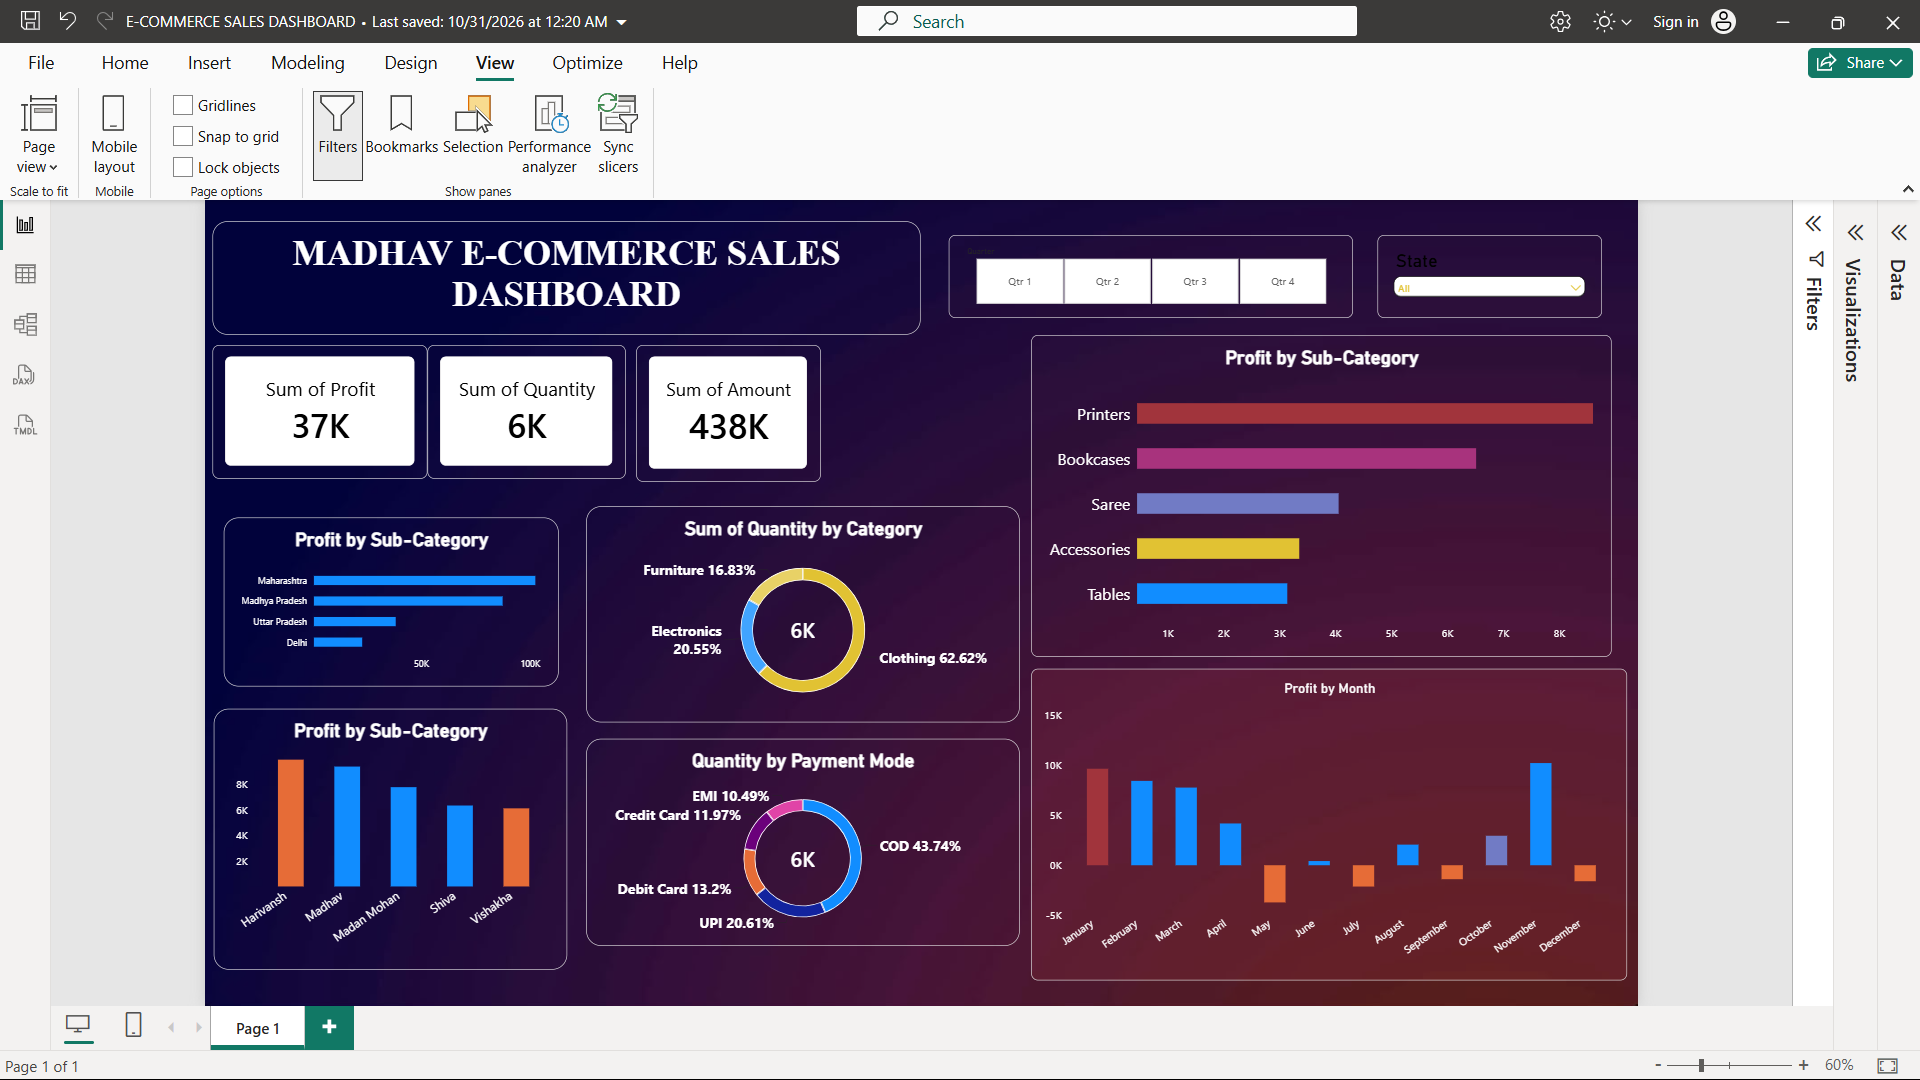

What the dashboard file says about the page in this screenshot:
{"tool":"powerbi","page":{"name":"Page 1","canvas":[1920,1080],"ordinal":0},"visuals":[{"type":"textbox","box":[10.5,27.9,948.8,151.7],"z":0},{"type":"columnChart","title":"Profit by Month","fields":{"Category":["Orders.Order Date.Variation.Date Hierarchy.Month"],"Y":["Sum(Details.Profit)"]},"box":[1107.4,627.8,798.6,417.8],"z":1000},{"type":"barChart","title":"Profit by Sub-Category","fields":{"Category":["Details.Sub-Category"],"Y":["Sum(Details.Profit)"]},"box":[1107.4,181.1,777.9,430.8],"z":2000},{"type":"donutChart","fields":{"Category":["Details.Category"],"Y":["Sum(Details.Quantity)"]},"box":[510.5,409.6,580.8,289.5],"z":3000},{"type":"donutChart","title":"Quantity by Payment Mode","fields":{"Category":["Details.PaymentMode"],"Y":["Sum(Details.Quantity)"]},"box":[510.5,722.5,580.4,277.9],"z":4000},{"type":"cardVisual","fields":{"Data":["Sum(Details.Amount)"]},"box":[578.4,193.5,247,183.2],"z":5000},{"type":"cardVisual","fields":{"Data":["Sum(Details.Profit)"]},"box":[10.3,193.5,288.2,179.1],"z":6000},{"type":"cardVisual","fields":{"Data":["Sum(Details.Quantity)"]},"box":[298.5,193.5,265.5,179.1],"z":7000},{"type":"slicer","fields":{"Values":["Orders.Order Date.Variation.Date Hierarchy.Quarter"]},"box":[996.2,47.3,541.3,111.1],"z":8000},{"type":"barChart","title":"Profit by Sub-Category","fields":{"Category":["Orders.State"],"Y":["Sum(Details.Amount)"]},"box":[24.7,426.1,448.7,226.4],"z":9000},{"type":"columnChart","title":"Profit by Sub-Category","fields":{"Category":["Orders.CustomerName"],"Y":["Sum(Details.Amount)"]},"box":[12.3,681.3,473.4,349.9],"z":10000},{"type":"slicer","fields":{"Values":["Orders.State"]},"box":[1570.5,47.3,300.5,111.1],"z":10001}]}

Visuals, with their boxes on the page's 1920x1080 design canvas (x1, y1, x2, y2). These are canvas units, not pixel positions in the 1920x1080 screenshot, which may show the page scaled, cropped or inside an application window:
textbox: select_region(10, 28, 959, 180)
"Profit by Month" columnChart: select_region(1107, 628, 1906, 1046)
"Profit by Sub-Category" barChart: select_region(1107, 181, 1885, 612)
donutChart - Details.Category x Sum(Details.Quantity): select_region(510, 410, 1091, 699)
"Quantity by Payment Mode" donutChart: select_region(510, 722, 1091, 1000)
cardVisual - Sum(Details.Amount): select_region(578, 194, 825, 377)
cardVisual - Sum(Details.Profit): select_region(10, 194, 298, 373)
cardVisual - Sum(Details.Quantity): select_region(298, 194, 564, 373)
slicer - Orders.Order Date.Variation.Date Hierarchy.Quarter: select_region(996, 47, 1538, 158)
"Profit by Sub-Category" barChart: select_region(25, 426, 473, 652)
"Profit by Sub-Category" columnChart: select_region(12, 681, 486, 1031)
slicer - Orders.State: select_region(1570, 47, 1871, 158)
